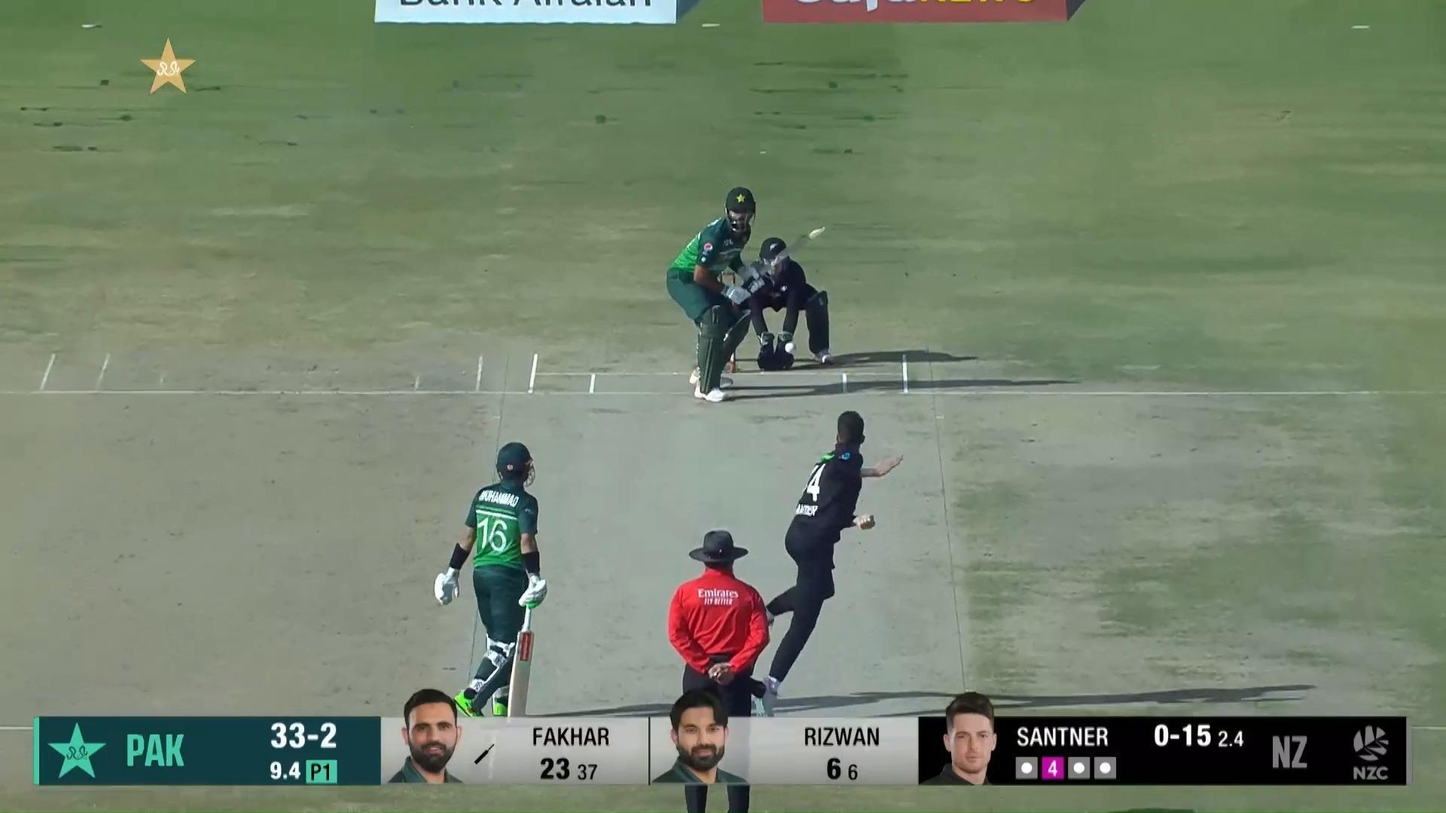BM 1: (666, 186, 826, 402)
BO: (757, 409, 906, 717)
